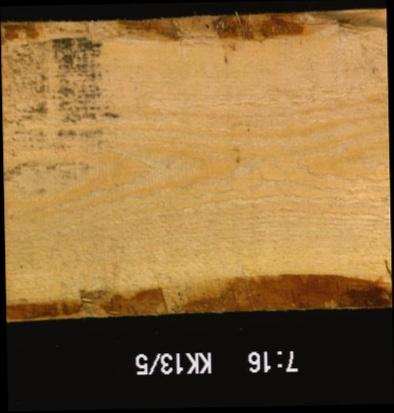wave: (4, 274, 391, 317), (0, 15, 385, 45)
